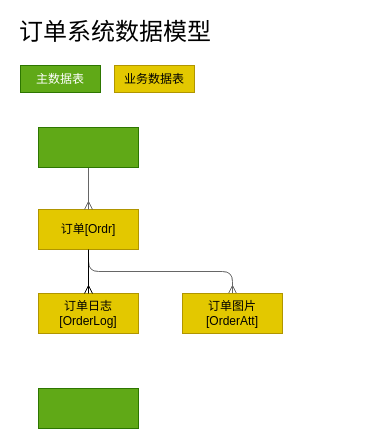
Image size: 374x446. Some labels were removed from this diagram. The shapes that lost their labels are listed below. From the top down, each one's centre as x and y in pixels, then its label:
At pixel 88 147: "用户[User]".
At pixel 88 408: "员工[Employee]".
